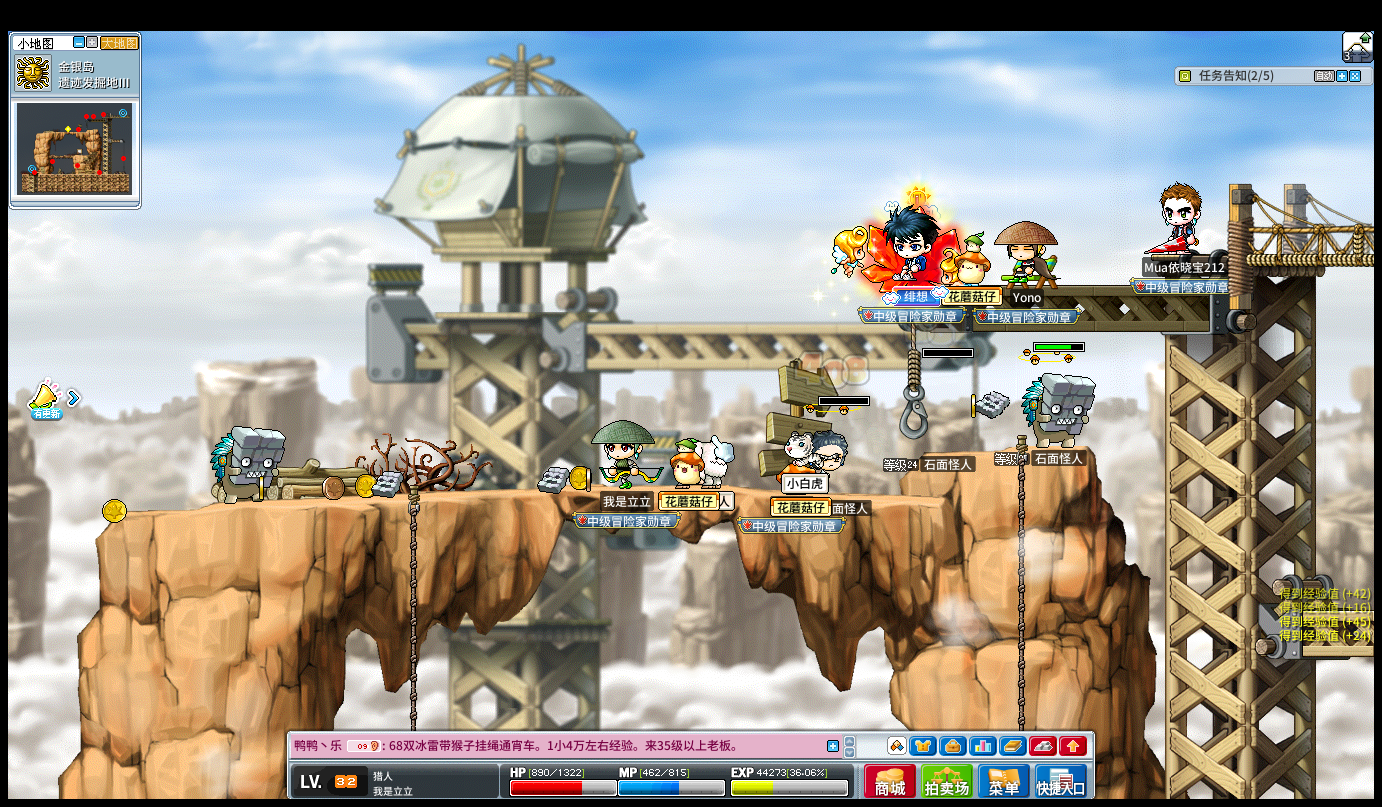floor: (96, 479, 962, 512), (96, 481, 1053, 501), (1230, 219, 1376, 233)
monster: (208, 424, 285, 505), (1021, 371, 1094, 445)
rope: (405, 479, 419, 807), (1013, 445, 1028, 725), (405, 480, 419, 719)
